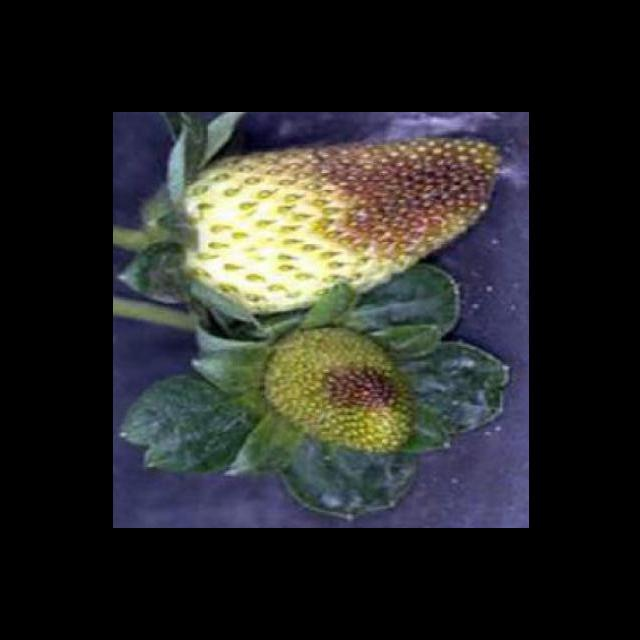Anthracnose Fruit Rot: (259, 137, 497, 260), (312, 365, 407, 421)
